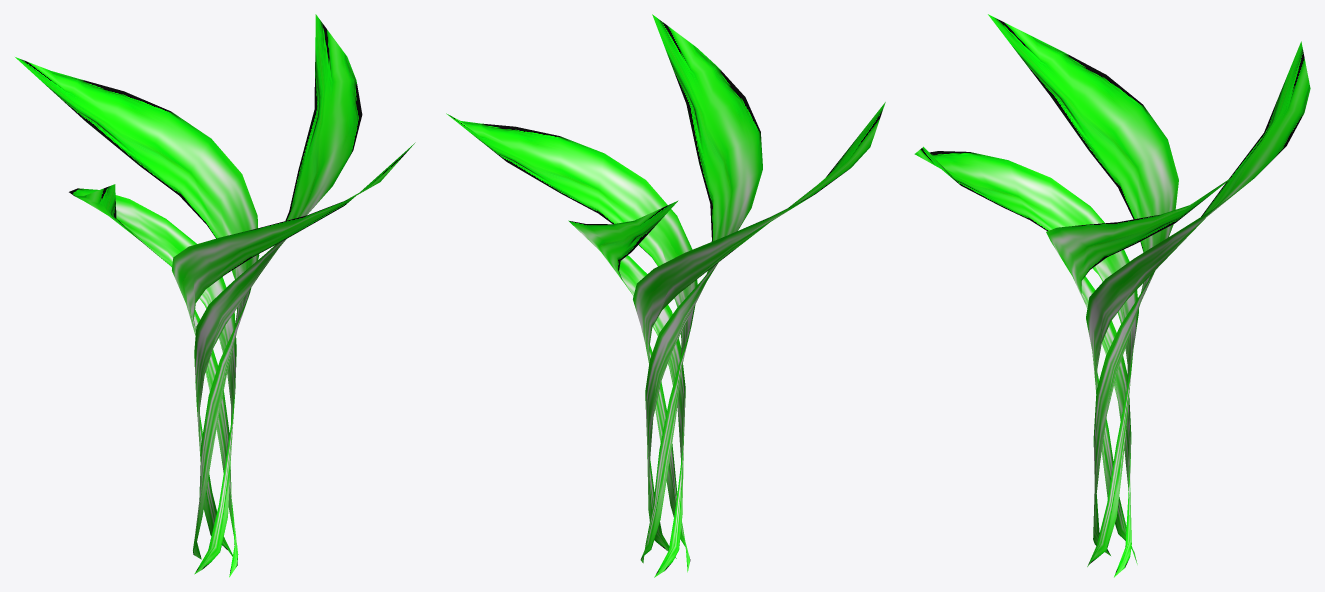
The model's file is effect_test.fbx.
The picture shows the model from 3 angles, left to right: view 1: azimuth 30°, elevation 25°; view 2: azimuth 150°, elevation 25°; view 3: azimuth 270°, elevation 25°; orthographic projection. The views are drawn at different scales.
Visible parts, largest first — view 1: polySurface17; view 2: polySurface17; view 3: polySurface17.
Boxes of the visible parts, left/top/right/bottom form: polySurface17: left=15, top=14, right=415, bottom=577; polySurface17: left=446, top=14, right=885, bottom=577; polySurface17: left=914, top=14, right=1310, bottom=577.
Bounding box in the file's own units: 4.76 × 6.27 × 4.76.
